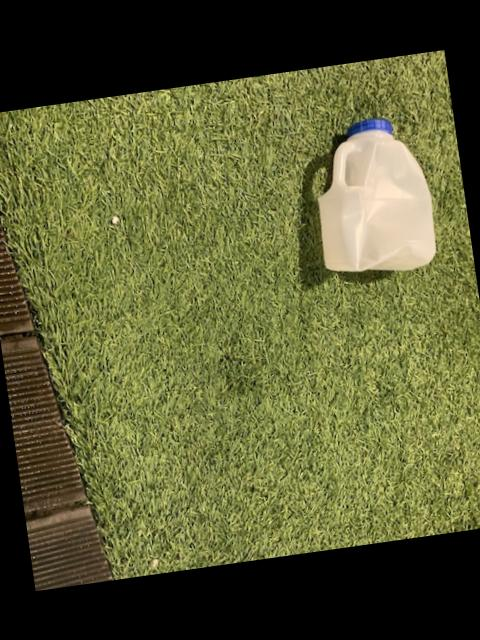plastic: (317, 119, 434, 272)
